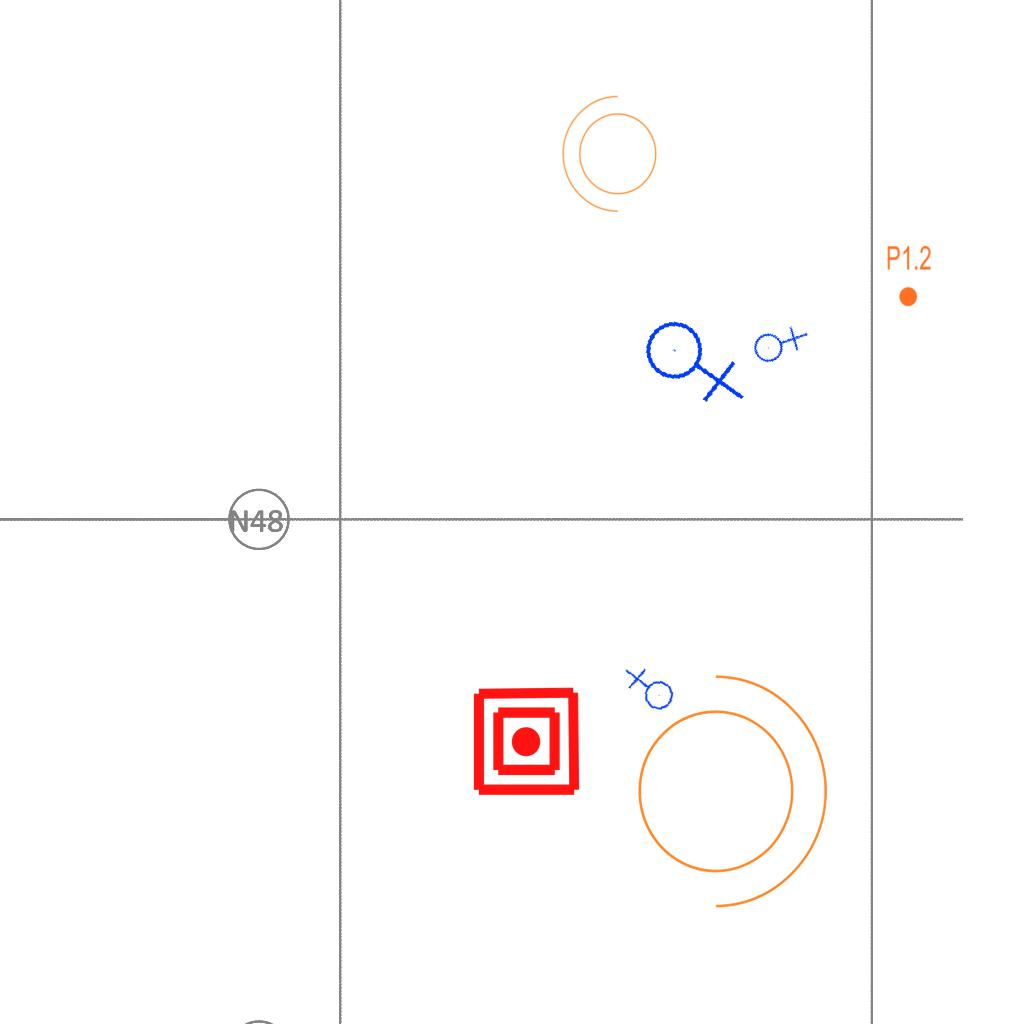Downlight_LED_Einbauleuchten_Flur: (886, 244, 932, 308)
Elektroanschluss_allgemein_230V_Geraeteanschlussdose_230V: (637, 301, 750, 417), (745, 310, 810, 375), (622, 662, 677, 719)
NAM-Nichtautomatischer_Melder: (470, 685, 583, 798)
Scheinwerfer_fuer_Alarmbeleuchtung: (613, 653, 838, 917), (557, 91, 669, 223)
